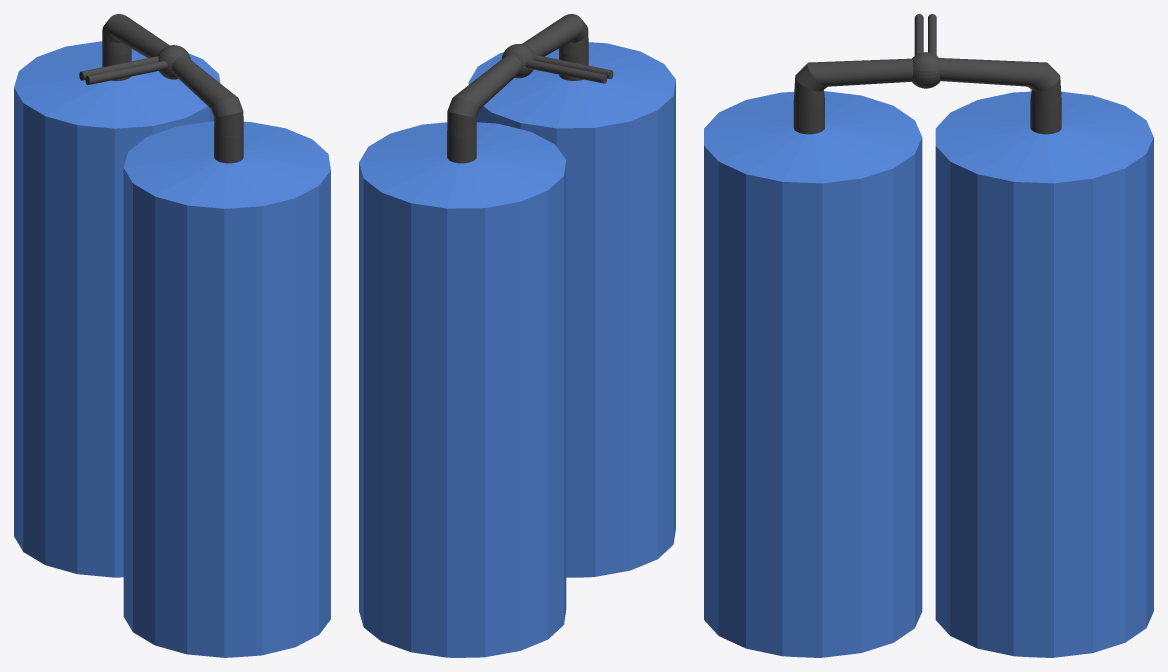
Rendered from OxygenTank.glb.
The picture shows the model from 3 angles, left to right: view 1: azimuth 30°, elevation 25°; view 2: azimuth 150°, elevation 25°; view 3: azimuth 270°, elevation 25°; orthographic projection. The views are drawn at different scales.
Parts seen in each view (by area): view 1: Cylinder, Cylinder.001, Cylinder.003, Cylinder.002, Cylinder.004, Sphere, Cylinder.005; view 2: Cylinder.001, Cylinder, Cylinder.002, Cylinder.003, Cylinder.005, Sphere, Cylinder.004; view 3: Cylinder.001, Cylinder, Cylinder.002, Cylinder.003, Sphere.
Boxes of the visible parts, x1=… form: Cylinder: x1=123, y1=121, x2=330, y2=657; Cylinder.001: x1=14, y1=41, x2=220, y2=577; Cylinder.003: x1=172, y1=55, x2=243, y2=163; Cylinder.002: x1=102, y1=14, x2=169, y2=80; Cylinder.004: x1=85, y1=61, x2=167, y2=84; Sphere: x1=158, y1=45, x2=190, y2=79; Cylinder.005: x1=79, y1=56, x2=158, y2=80; Cylinder.001: x1=359, y1=122, x2=566, y2=657; Cylinder: x1=468, y1=42, x2=675, y2=577; Cylinder.002: x1=447, y1=54, x2=521, y2=163; Cylinder.003: x1=522, y1=14, x2=588, y2=80; Cylinder.005: x1=525, y1=59, x2=607, y2=83; Sphere: x1=502, y1=44, x2=534, y2=78; Cylinder.004: x1=534, y1=54, x2=613, y2=79; Cylinder.001: x1=935, y1=91, x2=1153, y2=657; Cylinder: x1=704, y1=91, x2=922, y2=657; Cylinder.002: x1=939, y1=58, x2=1061, y2=134; Cylinder.003: x1=793, y1=58, x2=913, y2=134; Sphere: x1=912, y1=52, x2=940, y2=88.
Size of the model in its own units: 0.4764 by 1.41 by 0.9777.
